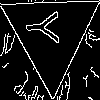Y: (26, 9, 67, 44)
